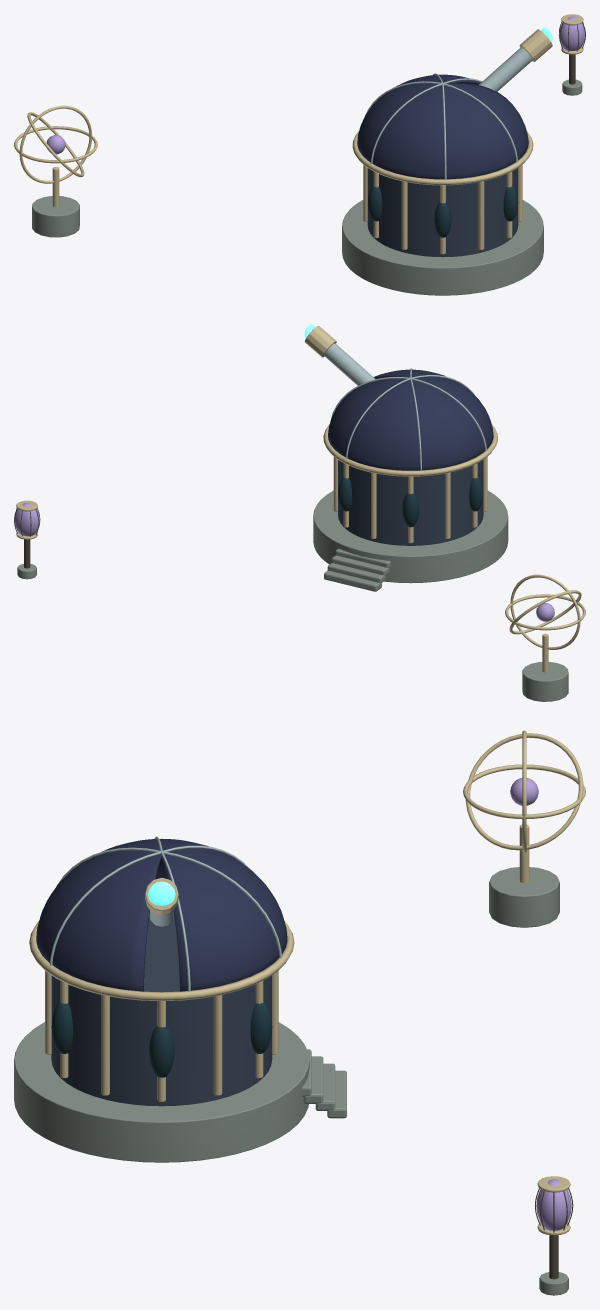
The model's file is astral.glb.
3 renders of one model, top to bottom at view 1: azimuth 30°, elevation 25°; view 2: azimuth 150°, elevation 25°; view 3: azimuth 270°, elevation 25°, orthographic. The views are drawn at different scales.
Visible parts, largest first — view 1: Opening observatory dome, Observatory marble foundation, Observatory rotunda, Armillary foot, Dome azimuth track, Telescope barrel, Armillary orbital ring, Armillary orbital ring.002, Paper lantern, Telescope collar, Armillary orbital ring.001, Arched star window.004 (+4 smaller); view 2: Opening observatory dome, Observatory marble foundation, Observatory rotunda, Armillary foot, Dome azimuth track, Telescope barrel, Armillary orbital ring, Paper lantern, Armillary orbital ring.002, Observatory stair.004, Armillary orbital ring.001, Telescope collar (+2 smaller); view 3: Opening observatory dome, Observatory marble foundation, Observatory rotunda, Armillary foot, Dome azimuth track, Armillary orbital ring.001, Armillary orbital ring.002, Paper lantern, Arched star window, Fluted observatory pilaster.001, Arched star window.005, Arched star window.001 (+1 smaller).
Boxes of the visible parts, x1,y1,x2,y2 form: Opening observatory dome: (357, 74, 528, 179); Observatory marble foundation: (342, 200, 543, 295); Observatory rotunda: (367, 168, 518, 257); Armillary foot: (32, 196, 79, 237); Dome azimuth track: (352, 131, 533, 185); Telescope barrel: (478, 47, 532, 91); Armillary orbital ring: (19, 105, 91, 183); Armillary orbital ring.002: (14, 126, 97, 163); Paper lantern: (558, 16, 585, 50); Telescope collar: (519, 29, 552, 61); Armillary orbital ring.001: (27, 112, 84, 177); Arched star window.004: (434, 202, 451, 237); Opening observatory dome: (328, 369, 493, 470); Observatory marble foundation: (313, 490, 508, 583); Observatory rotunda: (338, 460, 483, 545); Armillary foot: (522, 662, 568, 701); Dome azimuth track: (323, 424, 497, 476); Telescope barrel: (324, 343, 375, 385); Armillary orbital ring: (510, 574, 580, 649); Paper lantern: (14, 503, 40, 536); Armillary orbital ring.002: (505, 594, 585, 630); Observatory stair.004: (324, 570, 381, 591); Armillary orbital ring.001: (509, 590, 581, 634); Telescope collar: (304, 326, 336, 357); Opening observatory dome: (36, 838, 287, 991); Observatory marble foundation: (14, 1022, 309, 1162); Observatory rotunda: (51, 916, 272, 1106); Armillary foot: (489, 867, 559, 927); Dome azimuth track: (29, 921, 294, 1001); Armillary orbital ring.001: (465, 733, 583, 850); Armillary orbital ring.002: (463, 764, 585, 818); Paper lantern: (536, 1179, 571, 1230); Arched star window: (149, 1025, 174, 1077); Fluted observatory pilaster.001: (213, 995, 222, 1095); Arched star window.005: (51, 1001, 72, 1053); Arched star window.001: (250, 1001, 272, 1053).
Size of the model in its own units: 4.94 by 1.65 by 2.9.
